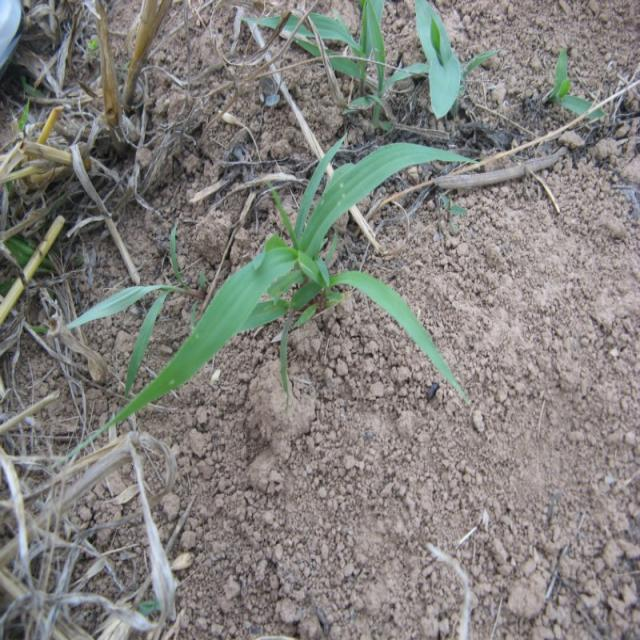bg: (109, 139, 481, 417)
